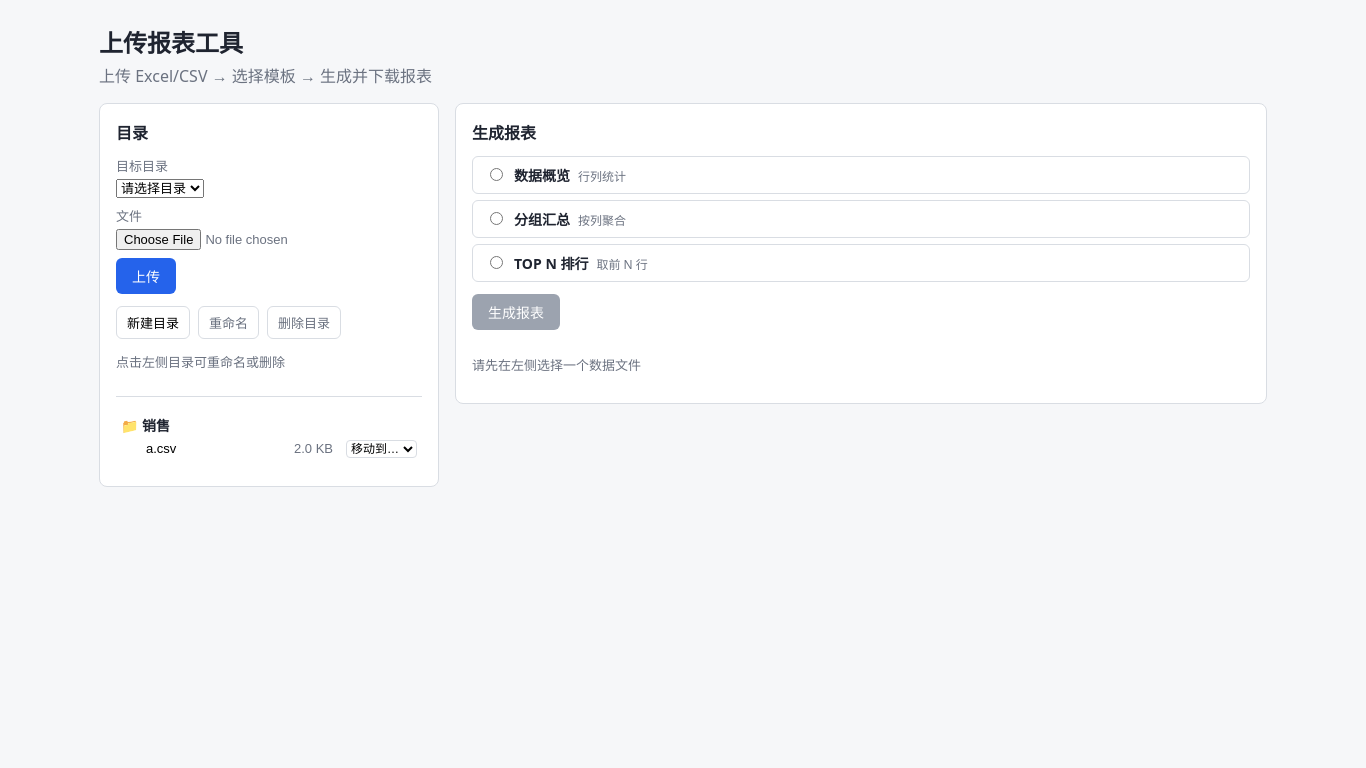
Test: overview report renders a section table end to end
Click the text "a.csv" at point(161, 448), box left=146, top=441, right=176, bottom=456
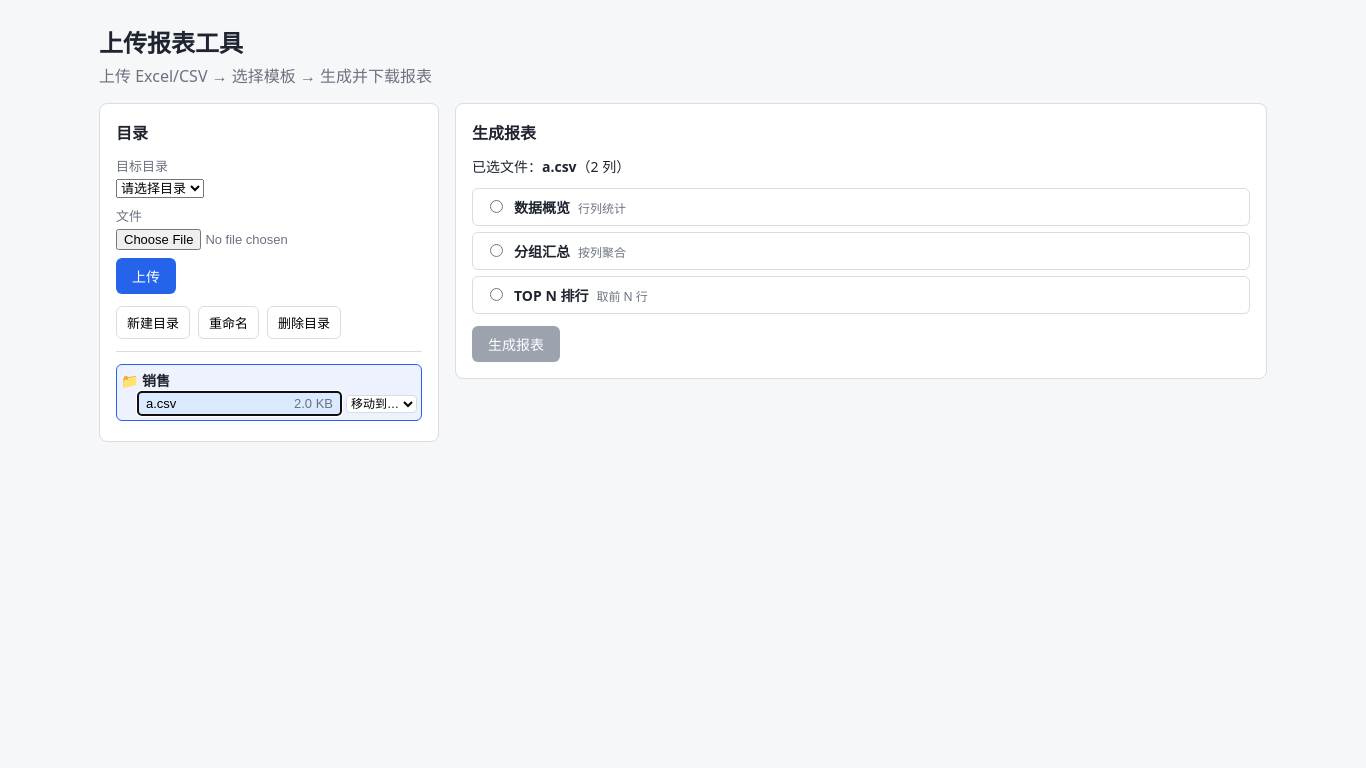
Check: the text "已选文件：a.csv（2 列）" is shown, box left=472, top=157, right=630, bottom=176
Click the radio button labelled "数据概览 行列统计" at point(496, 206), box left=490, top=200, right=503, bottom=213
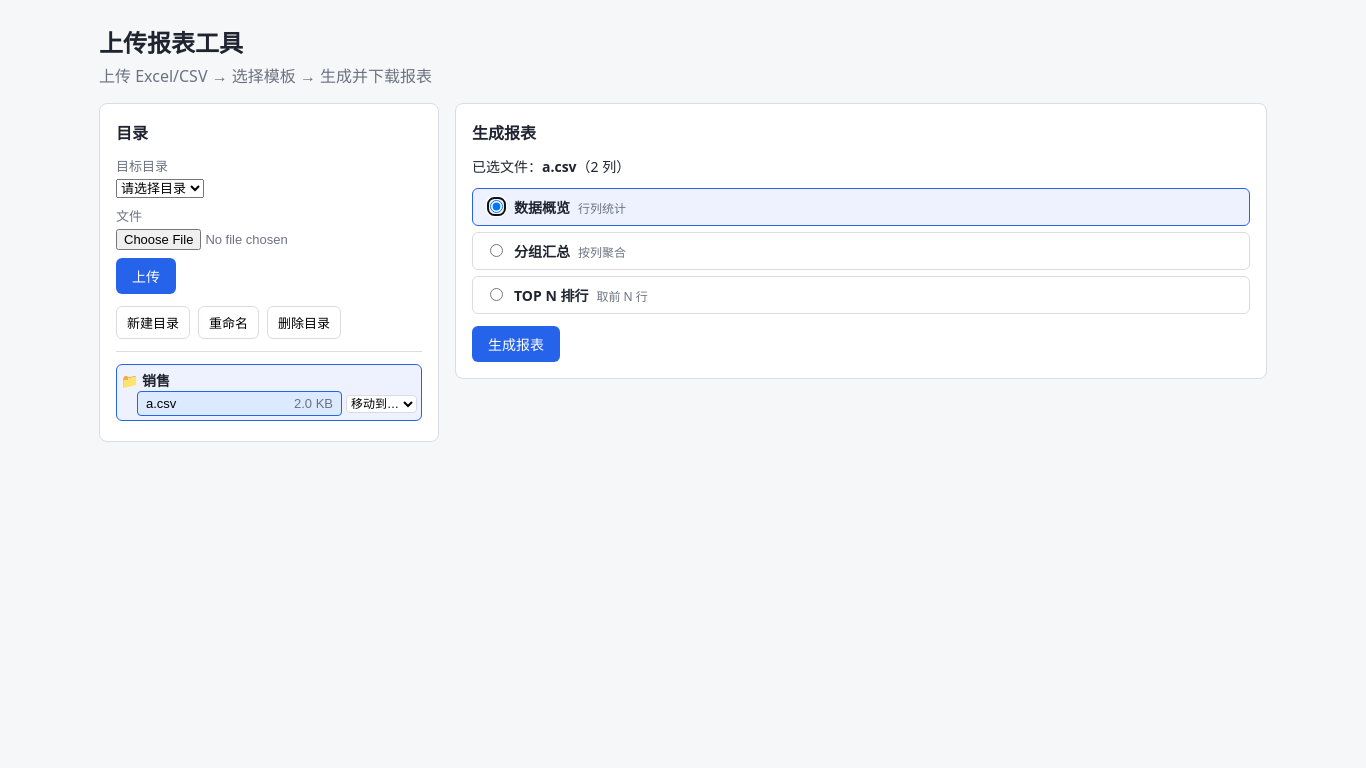
Click the button "生成报表" at point(516, 344), box left=472, top=326, right=560, bottom=362
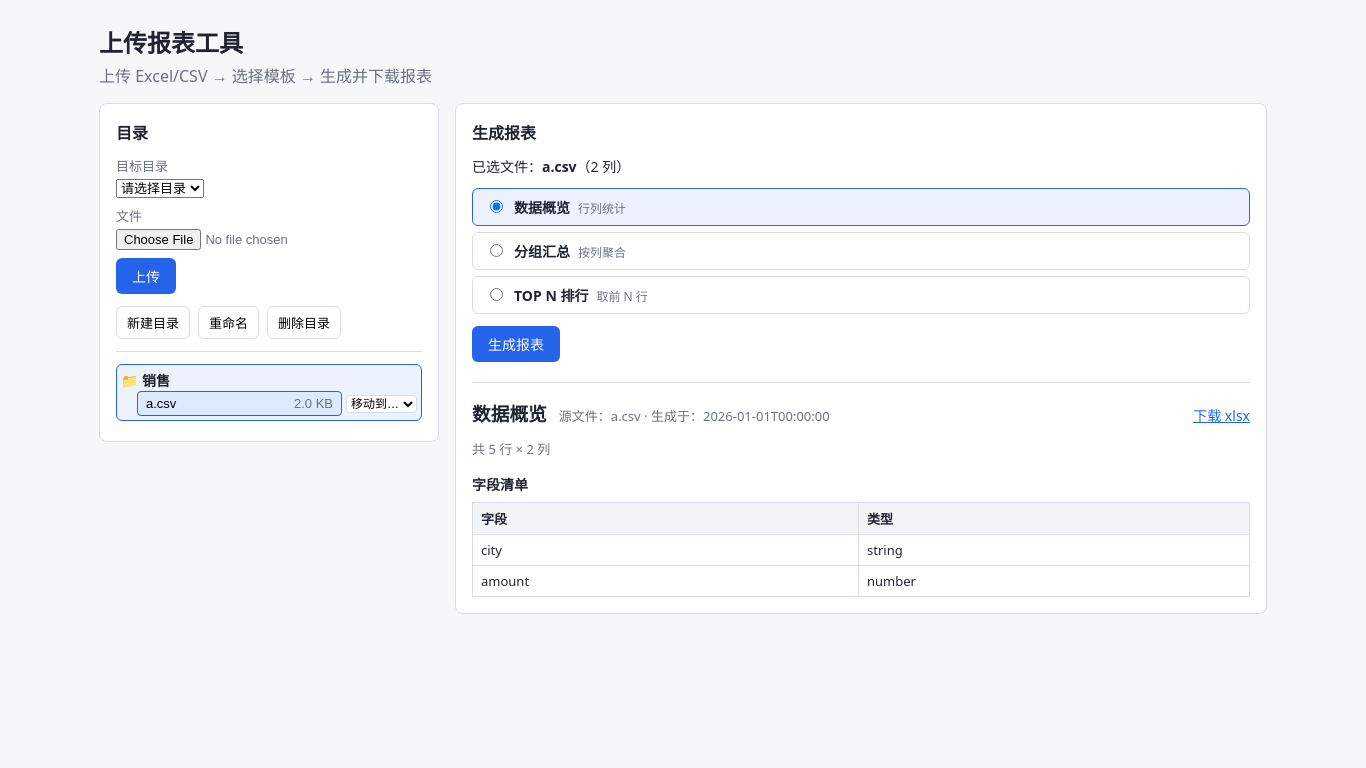
Check: the heading "字段清单" is shown, box left=472, top=475, right=528, bottom=494
Check: the column heading "字段" is shown, box left=472, top=502, right=858, bottom=534
Check: the text "city" is shown, box left=472, top=534, right=858, bottom=566
